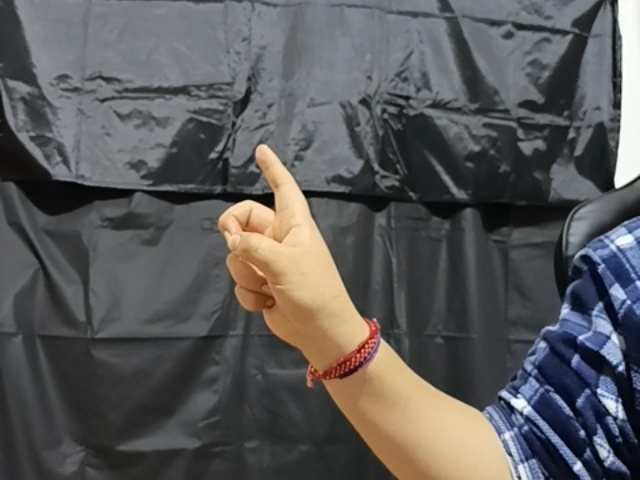D: (218, 138, 357, 343)
